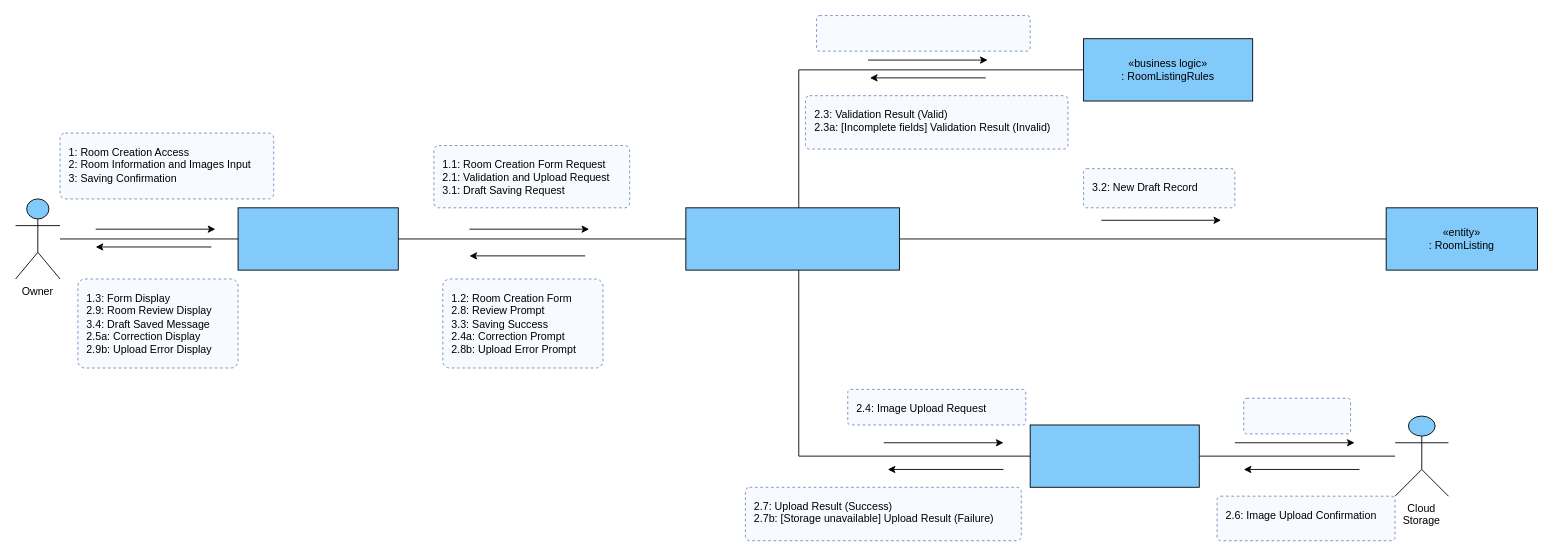
Image size: 1553x556. Some labels were removed from this diagram. The shapes that lost their labels are listed below. From the top down, each one's box as (x1, y1, x2, y2) in pixels, then its label:
(816, 15, 1030, 51): 2.2: Required Fields Validation Check
(237, 207, 398, 270): «user interaction» : OwnerUI
(685, 207, 899, 270): «coordinator» : CreateRoomListingCoordinator
(1243, 397, 1351, 434): 2.5: Image Upload
(1029, 424, 1199, 487): «proxy» : CloudStorageProxy
